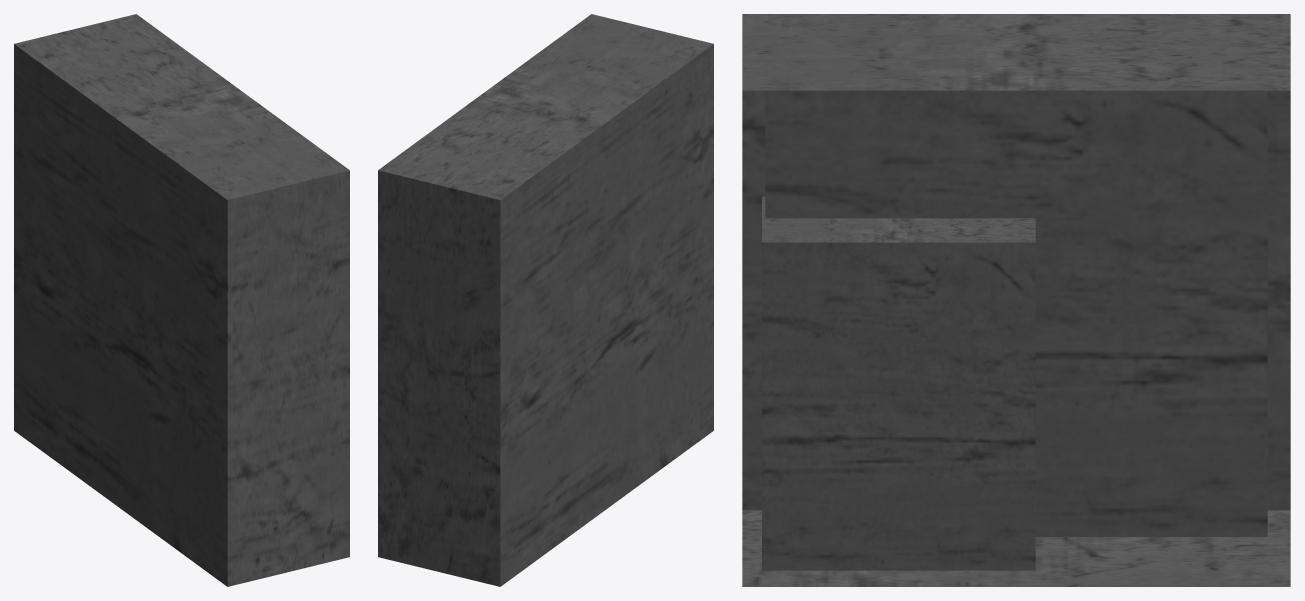
Rendered from p6_fuse_box_base_a_lod3.glb.
3 renders of one model, left to right at view 1: azimuth 30°, elevation 25°; view 2: azimuth 150°, elevation 25°; view 3: azimuth 270°, elevation 25°, orthographic. The views are drawn at different scales.
Visible parts, largest first — view 1: surf0; view 2: surf0; view 3: surf0.
Part boxes in pixels (<box>): surf0: <box>14,14,349,586</box>; surf0: <box>378,14,713,586</box>; surf0: <box>742,14,1290,586</box>.
Size of the model in its own units: 8.27 by 24.98 by 25.
